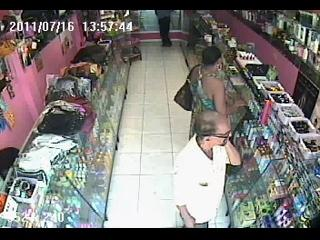Normal: (172, 111, 242, 228), (188, 46, 229, 138), (174, 64, 202, 111), (154, 10, 174, 48), (121, 46, 142, 64)
